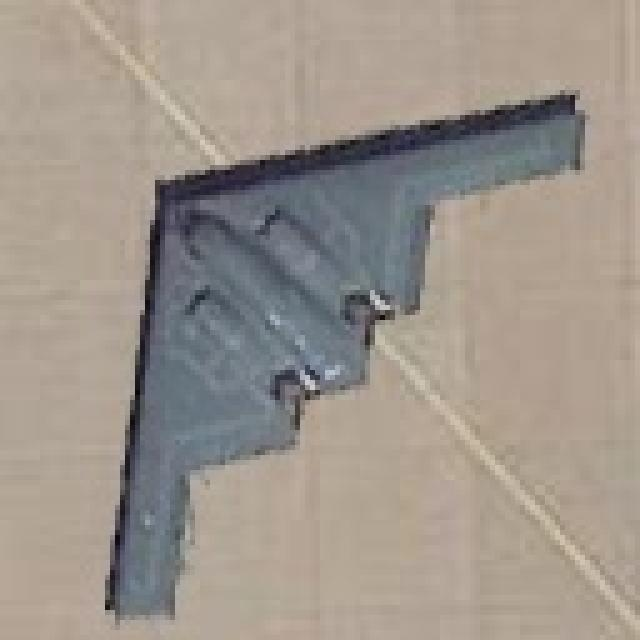B-2_TopDown: (95, 80, 590, 620)
